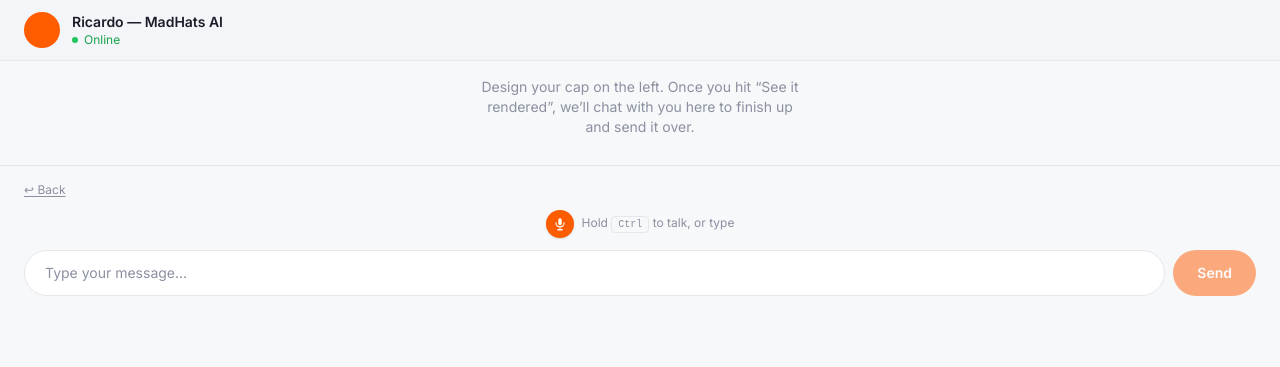
Test: backMenu › Cancel closes the menu without a request
Click the button "↩ Back": [45, 190] box [24,182,66,198]
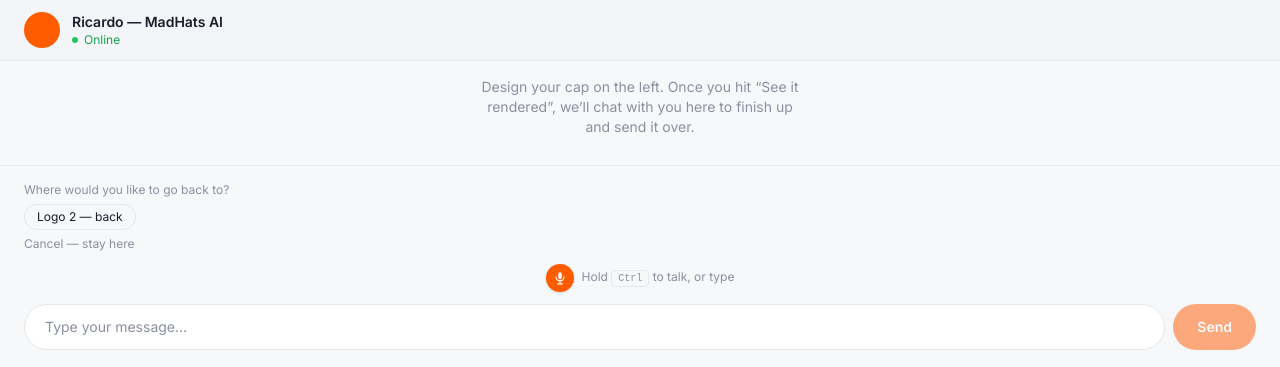
Click the button "Cancel — stay here": [79, 244] box [24,236,134,252]
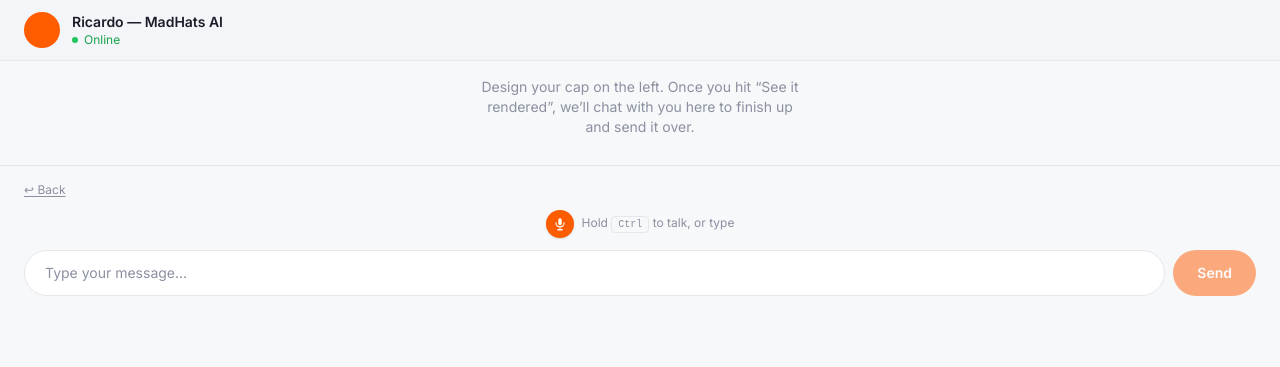
Result: the button "Logo 2 — back" is gone
